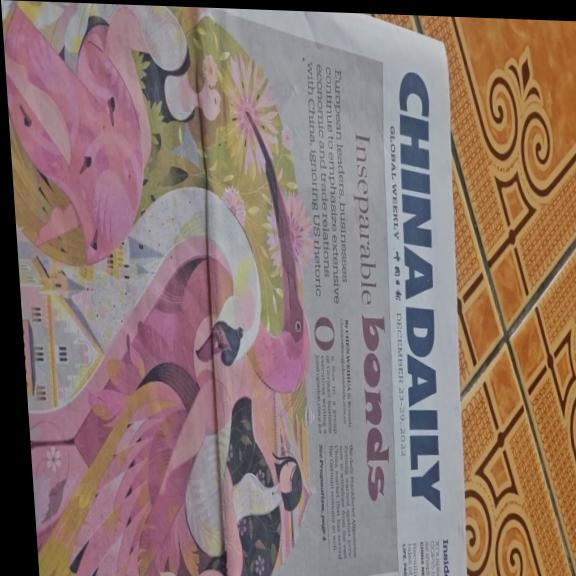Kertas: (12, 3, 472, 576)
